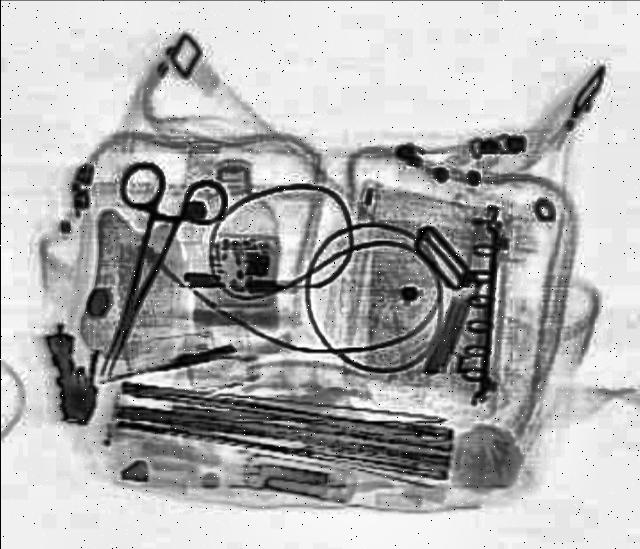Scissors: (52, 156, 238, 386)
